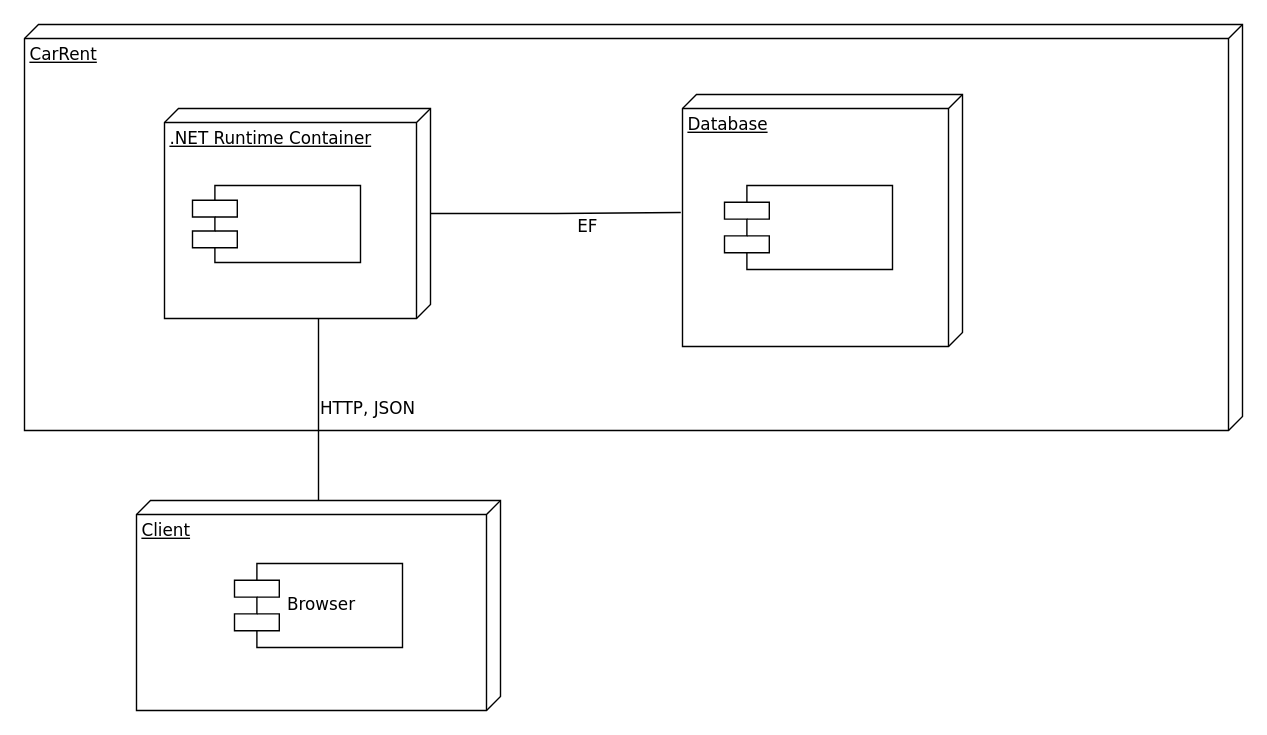
The diagram is 1267 pixels wide and 735 high, and some of its shapes have lost their labels. Here are the shapes that lost their labels. From the top down, the centre of each, then its label:
[275,223]: API CarRent
[807,227]: SQL Server
